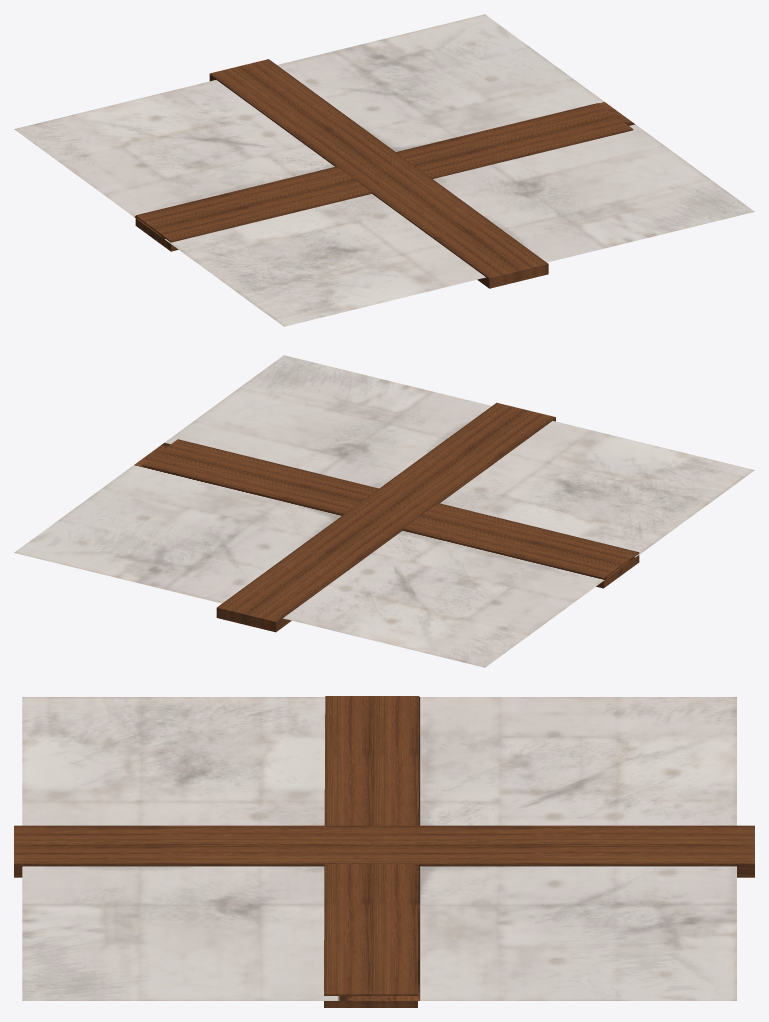
The model's file is ceiling.FBX.
The picture shows the model from 3 angles, top to bottom: view 1: azimuth 30°, elevation 25°; view 2: azimuth 150°, elevation 25°; view 3: azimuth 270°, elevation 25°; orthographic projection. The views are drawn at different scales.
Visible parts, largest first — view 1: Ceiling, Ceiling Wood; view 2: Ceiling, Ceiling Wood; view 3: Ceiling, Ceiling Wood.
Boxes of the visible parts, left/top/right/bottom form: Ceiling: left=14, top=14, right=754, bottom=326; Ceiling Wood: left=135, top=59, right=633, bottom=288; Ceiling: left=14, top=355, right=754, bottom=667; Ceiling Wood: left=142, top=402, right=639, bottom=632; Ceiling: left=22, top=697, right=736, bottom=1000; Ceiling Wood: left=14, top=696, right=754, bottom=1007.
Bounding box in the file's own units: 79.11 × 1.66 × 81.43.
2 materials, 2 textured.
